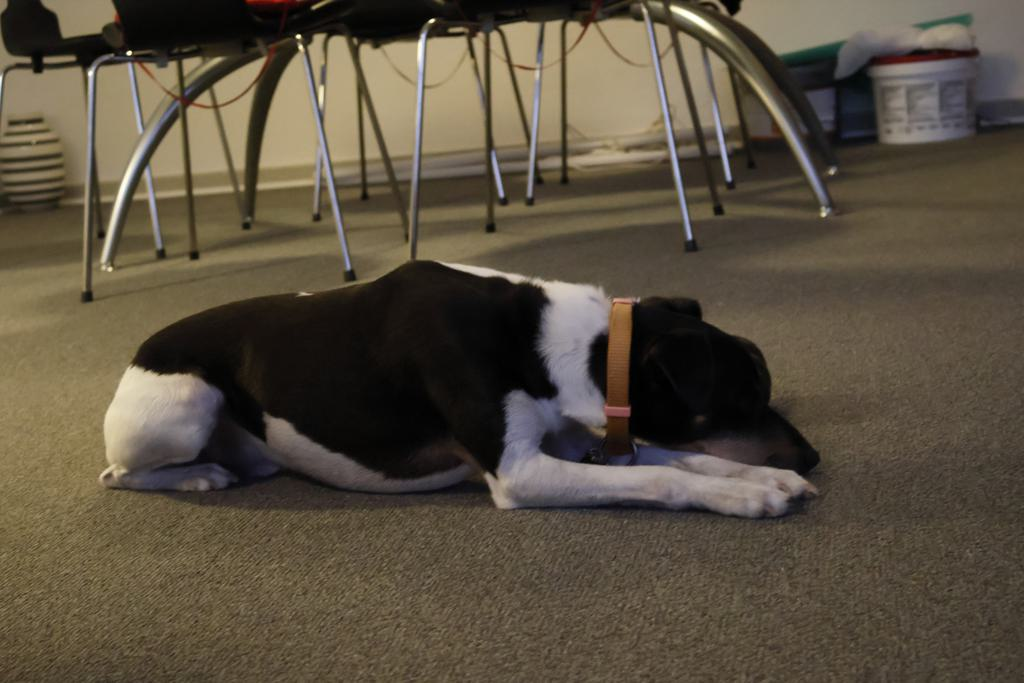Dog: (90, 244, 832, 538)
